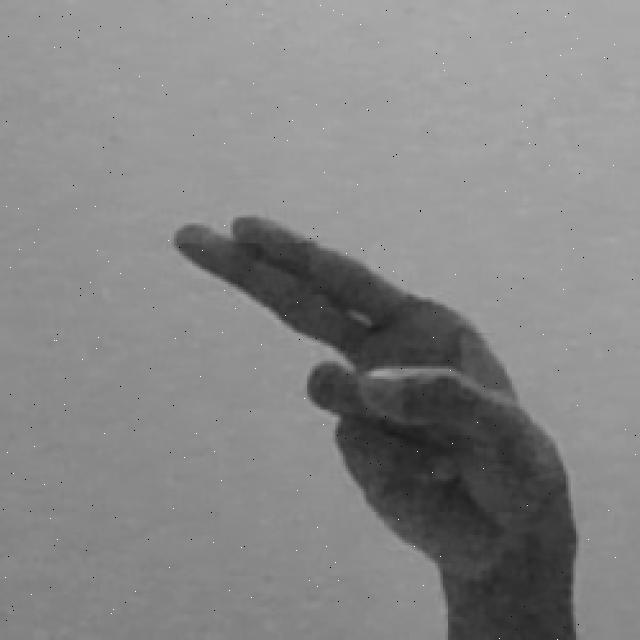H: (164, 205, 586, 640)
